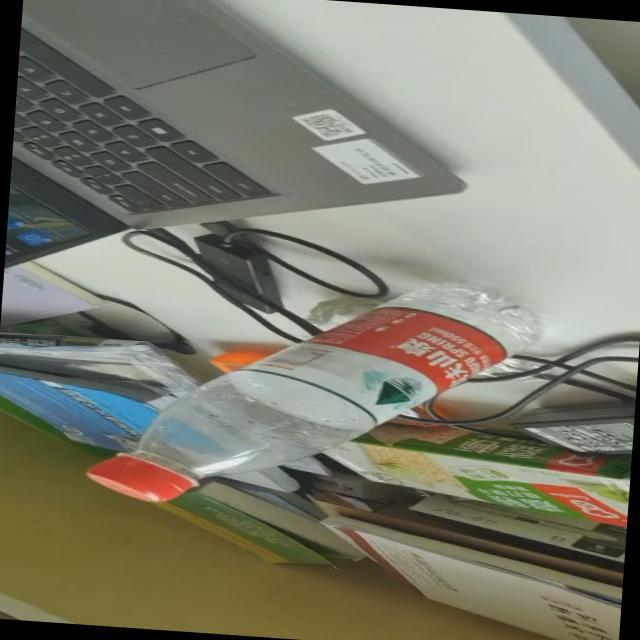good: (80, 259, 554, 530)
